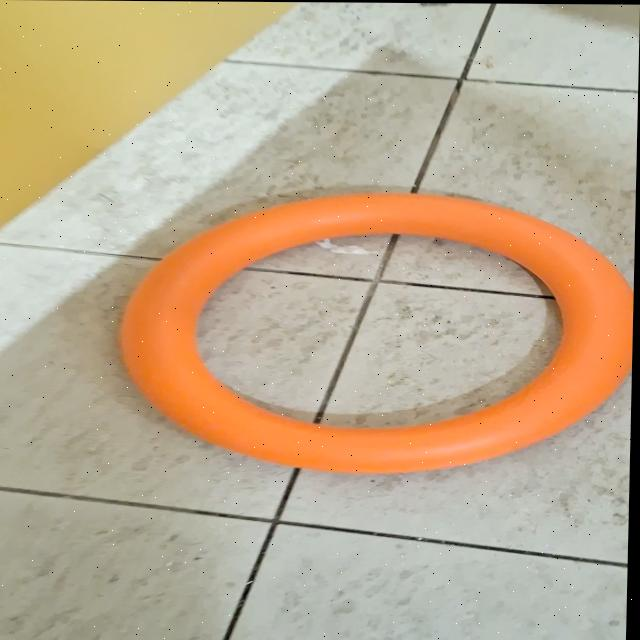note: (118, 189, 635, 476)
